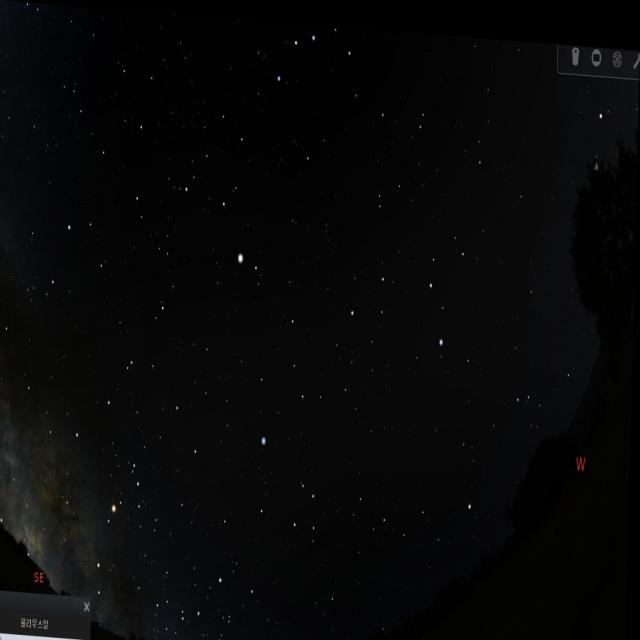bootes: (185, 87, 263, 276)
leo: (324, 198, 471, 364)
scorpius: (70, 437, 161, 604)
